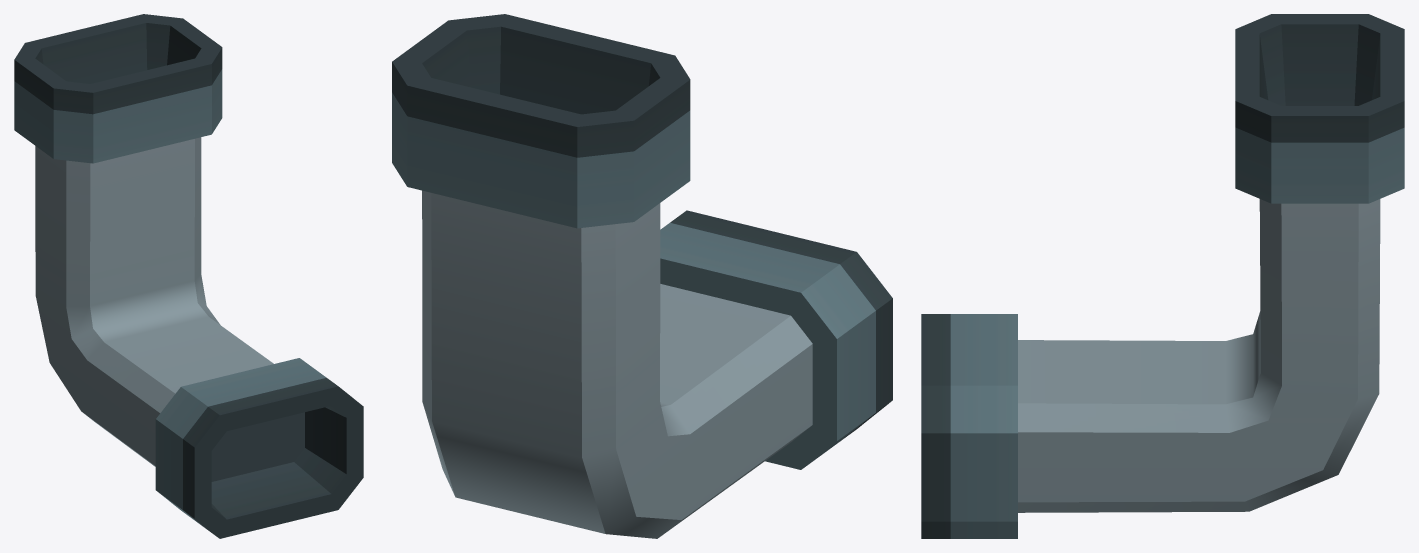
The model's file is Vent_tube_005.glb.
3 views of the same model, side by side, from view 1: azimuth 30°, elevation 25°; view 2: azimuth 150°, elevation 25°; view 3: azimuth 270°, elevation 25° (orthographic). The views are drawn at different scales.
Visible parts, largest first — view 1: Vent_tube_005; view 2: Vent_tube_005; view 3: Vent_tube_005.
Part boxes in pixels (x1,y1,x2,y2): Vent_tube_005: (14, 14, 363, 538); Vent_tube_005: (392, 14, 892, 538); Vent_tube_005: (921, 14, 1404, 538).
Size of the model in its own units: 0.5 by 1 by 1.
Materials: 1 (1 with a texture image).
